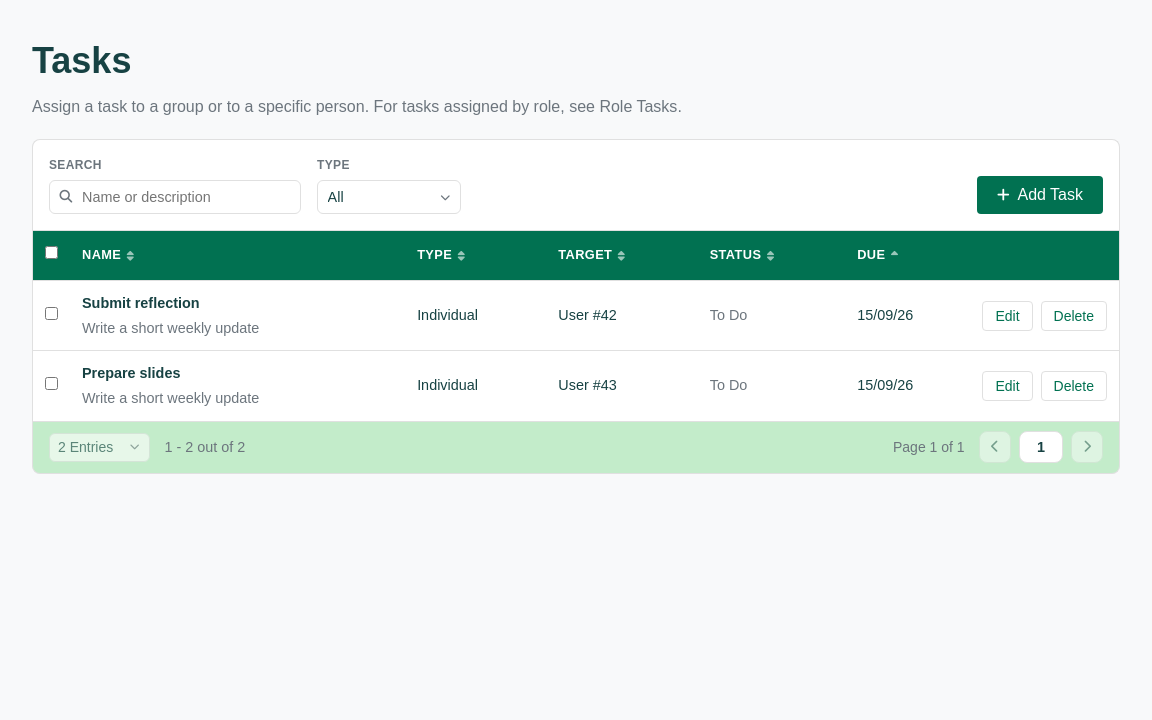
AdminTasksPage › bulk deletes selected tasks and clears successful selections
Click the checkbox named "Select Submit reflection" at (52, 314), box [45,307,58,320]
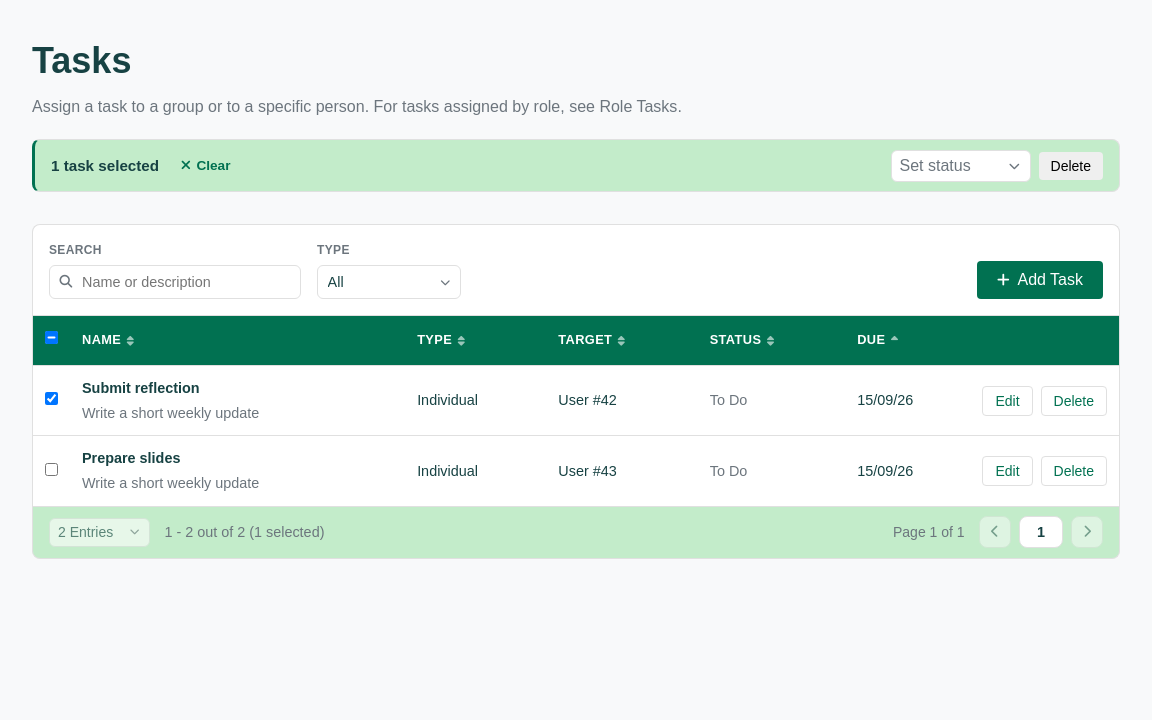
Click the checkbox named "Select Prepare slides" at (52, 469), box [45,463,58,476]
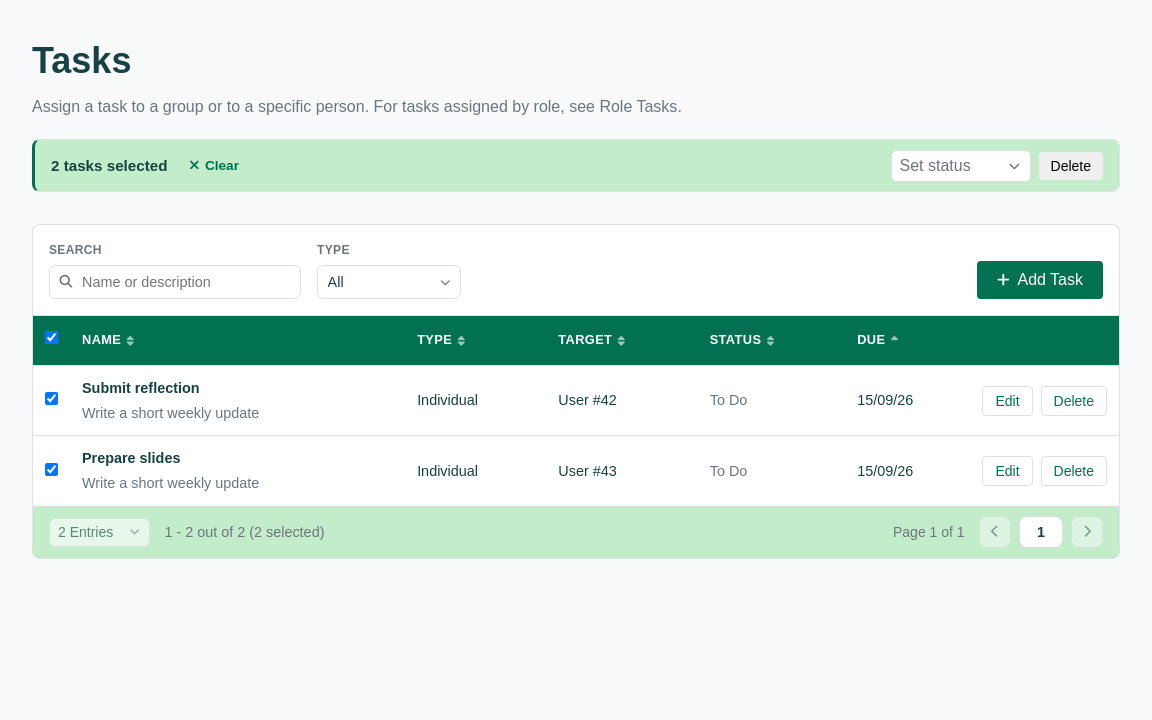
Check: the text "2 tasks selected" is shown, box [51,154,168,178]
Click the button "Delete" in the row of "2 tasks selected" at (1071, 166), box [1038,152,1103,180]
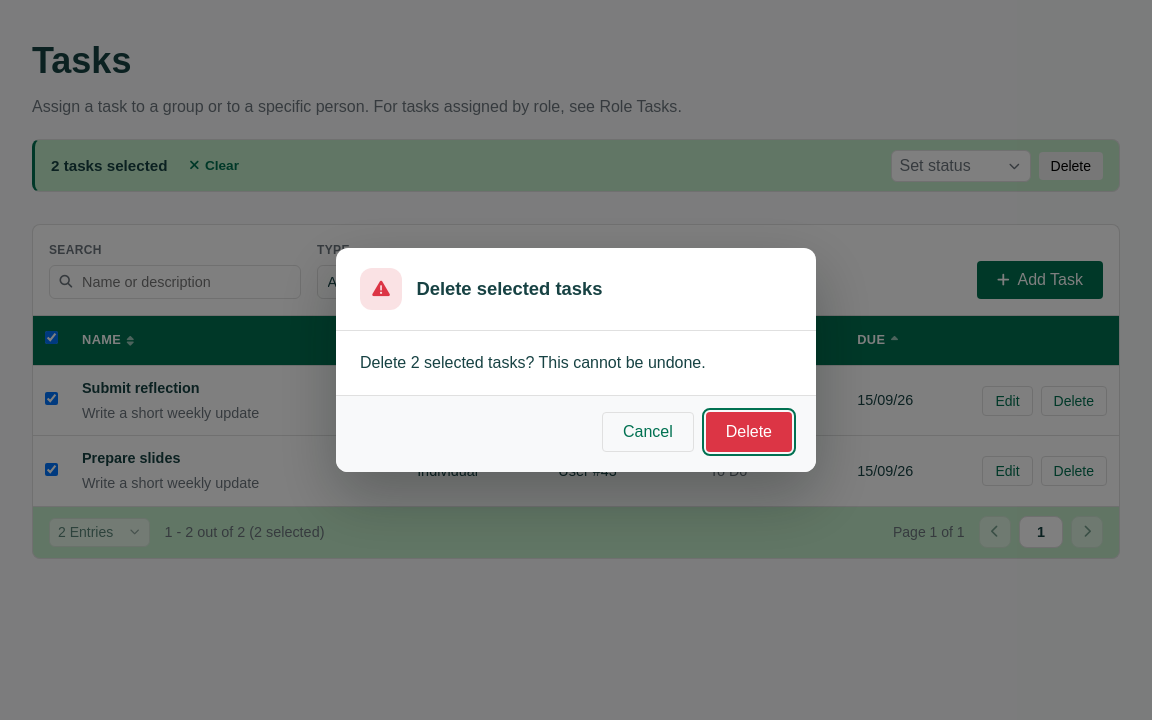
Check: the text "Delete 2 selected tasks? This cannot be undone." is shown, box [360,354,706,371]
Click the button "Delete" at (749, 432), box [706,412,792,452]
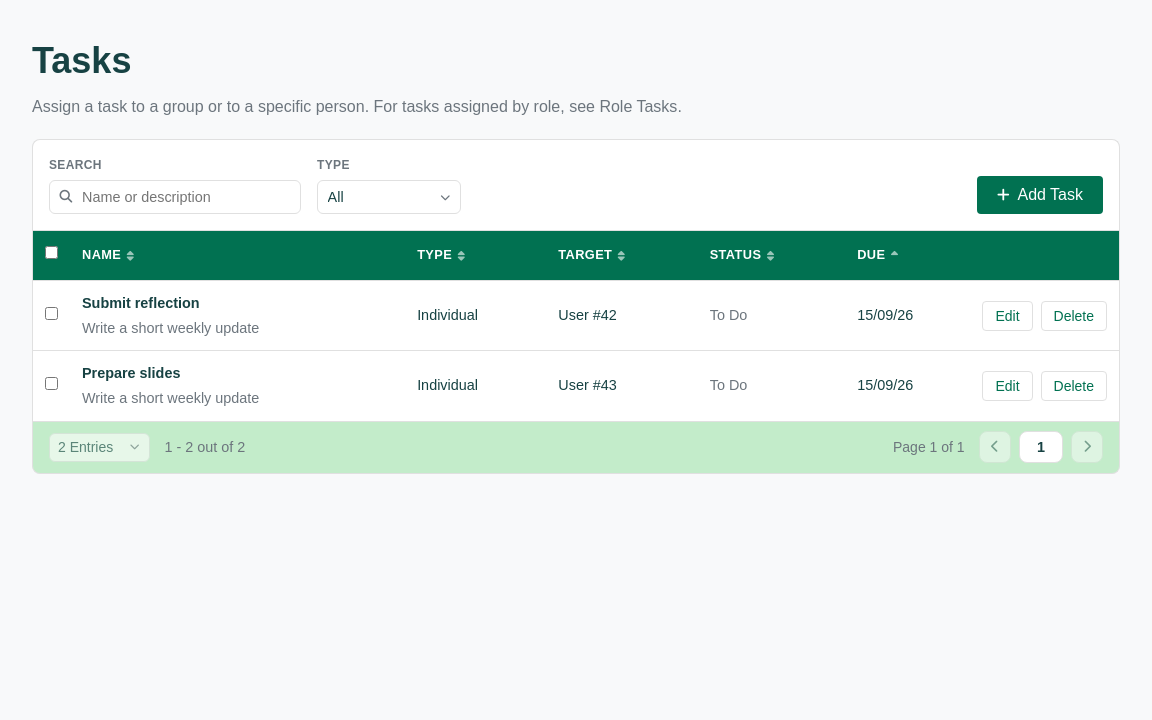
Check: the text "tasks selected" is gone
